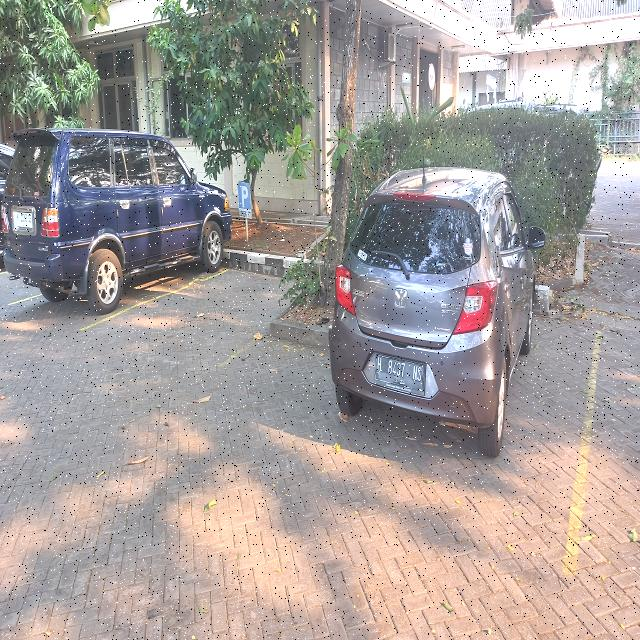empty: (82, 265, 314, 370), (0, 270, 37, 306)
occupied: (296, 166, 599, 569), (2, 131, 227, 328)
